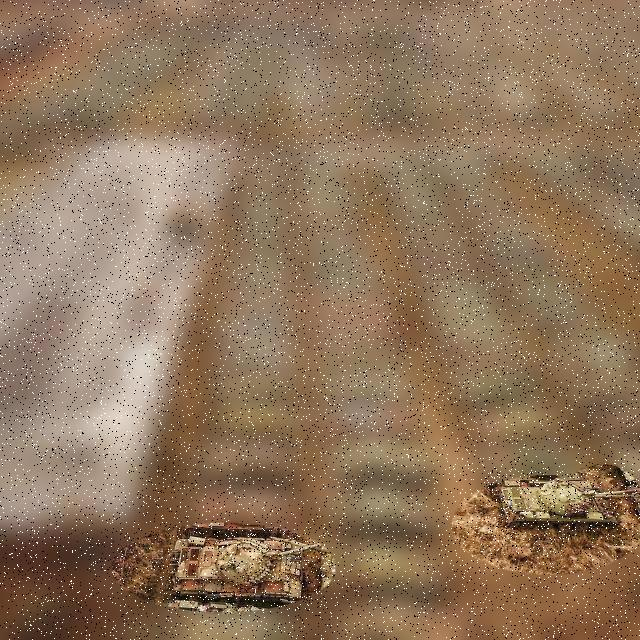MIL_MBT: (168, 527, 332, 613), (484, 471, 639, 540)
